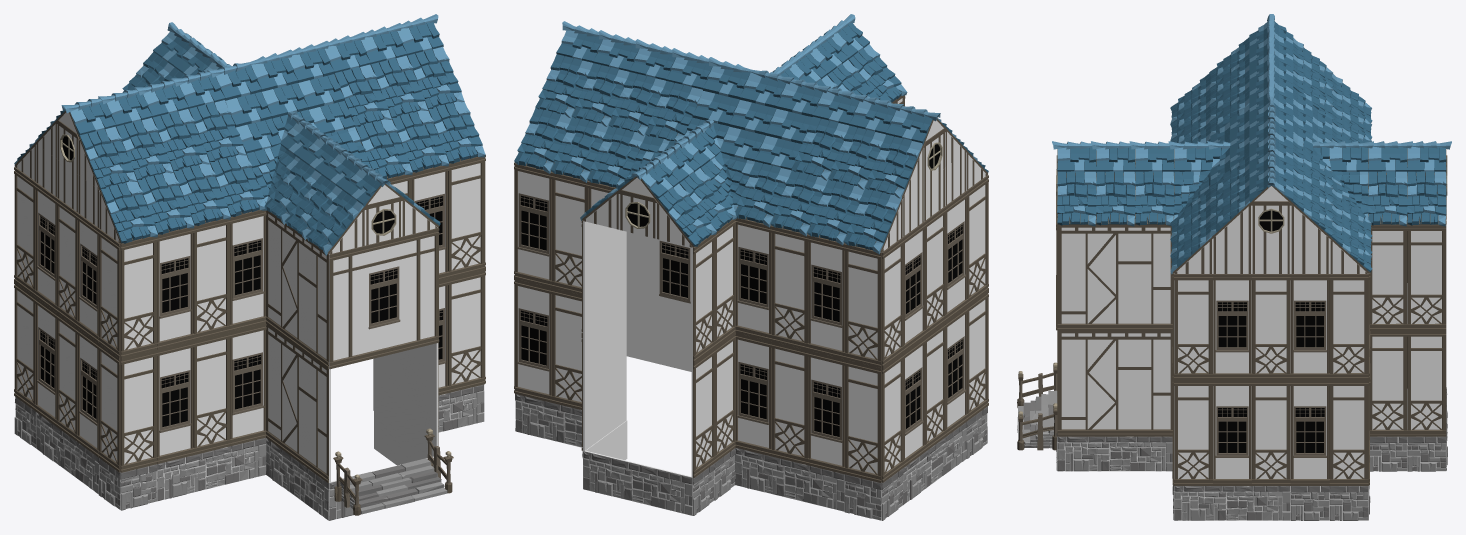
File: House_18_parts.fbx
The picture shows the model from 3 angles, left to right: view 1: azimuth 30°, elevation 25°; view 2: azimuth 150°, elevation 25°; view 3: azimuth 270°, elevation 25°; orthographic projection. The views are drawn at different scales.
Visible parts, largest first — view 1: WINDOW_03_2, WALL_05_2, WALL_05_3, WALL_05_5, STAIRS_03_3, WALL_04_5, WALL_04_4, WALL_04_6, WALL_04_3, WINDOW_04_5, WALL_04_9, WINDOW_04_4 (+72 smaller); view 2: WALL_04_17, WALL_04_18, FOUNDATION_02_33, WALL_04_19, WINDOW_04_15, WINDOW_04_19, WALL_04_20, WINDOW_04_16, WINDOW_04_20, FOUNDATION_02_34, WINDOW_04_14, WINDOW_04_13 (+79 smaller); view 3: WALL_05_5, WALL_05_4, WINDOW_04_22, WALL_04_25, WALL_04_36, WALL_04_34, WINDOW_04_23, WALL_04_26, FOUNDATION_02_30, WINDOW_04_21, WALL_04_24, WALL_04_23 (+59 smaller).
Part boxes in pixels (x1,y1,x2,y2): WINDOW_03_2: [329, 228, 439, 369]; WALL_05_2: [266, 324, 330, 482]; WALL_05_3: [266, 210, 329, 368]; WALL_05_5: [373, 343, 438, 454]; STAIRS_03_3: [333, 428, 453, 515]; WALL_04_5: [120, 236, 157, 358]; WALL_04_4: [120, 350, 157, 472]; WALL_04_6: [193, 219, 230, 340]; WALL_04_3: [193, 332, 230, 454]; WINDOW_04_5: [157, 227, 194, 349]; WALL_04_9: [448, 157, 485, 278]; WINDOW_04_4: [157, 341, 194, 463]; WALL_04_17: [771, 226, 808, 350]; WALL_04_18: [771, 341, 808, 464]; FOUNDATION_02_33: [583, 451, 692, 515]; WALL_04_19: [844, 243, 881, 367]; WINDOW_04_15: [807, 234, 844, 358]; WINDOW_04_19: [514, 163, 551, 287]; WALL_04_20: [844, 359, 881, 482]; WINDOW_04_16: [807, 350, 844, 473]; WINDOW_04_20: [514, 279, 551, 402]; FOUNDATION_02_34: [735, 448, 844, 511]; WINDOW_04_14: [735, 218, 771, 341]; WINDOW_04_13: [735, 333, 771, 456]; WALL_05_5: [1057, 330, 1172, 436]; WALL_05_4: [1057, 224, 1172, 330]; WINDOW_04_22: [1290, 274, 1329, 380]; WALL_04_25: [1329, 274, 1368, 380]; WALL_04_36: [1407, 224, 1446, 330]; WALL_04_34: [1407, 331, 1446, 436]; WINDOW_04_23: [1290, 380, 1329, 485]; WALL_04_26: [1329, 380, 1368, 485]; FOUNDATION_02_30: [1057, 436, 1172, 471]; WINDOW_04_21: [1213, 274, 1251, 380]; WALL_04_24: [1252, 274, 1290, 380]; WALL_04_23: [1174, 274, 1212, 380].
Size of the model in its own units: 1029 by 965 by 1118.
